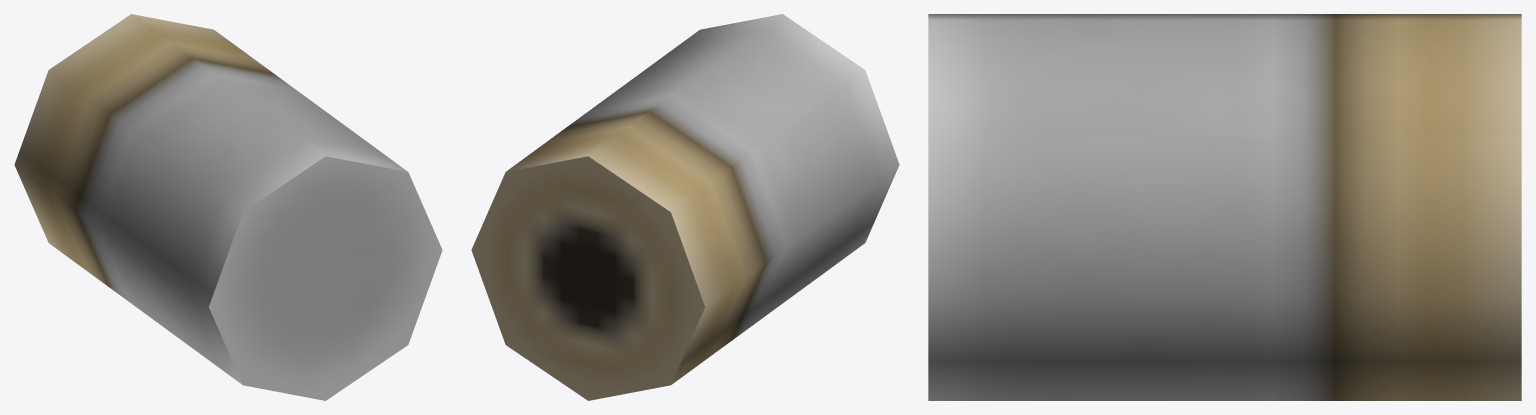
File: Eridani_Antenna_1_Base.obj
3 views of the same model, side by side, from view 1: azimuth 30°, elevation 25°; view 2: azimuth 150°, elevation 25°; view 3: azimuth 270°, elevation 25° (orthographic). The views are drawn at different scales.
Parts seen in each view (by area): view 1: Eridani_Antenna_1_Base; view 2: Eridani_Antenna_1_Base; view 3: Eridani_Antenna_1_Base.
Boxes of the visible parts, bbox=[...] form: Eridani_Antenna_1_Base: bbox=[14, 14, 442, 400]; Eridani_Antenna_1_Base: bbox=[471, 14, 899, 400]; Eridani_Antenna_1_Base: bbox=[928, 14, 1521, 400].
Size of the model in its own units: 0.0625 by 0.0625 by 0.09.
